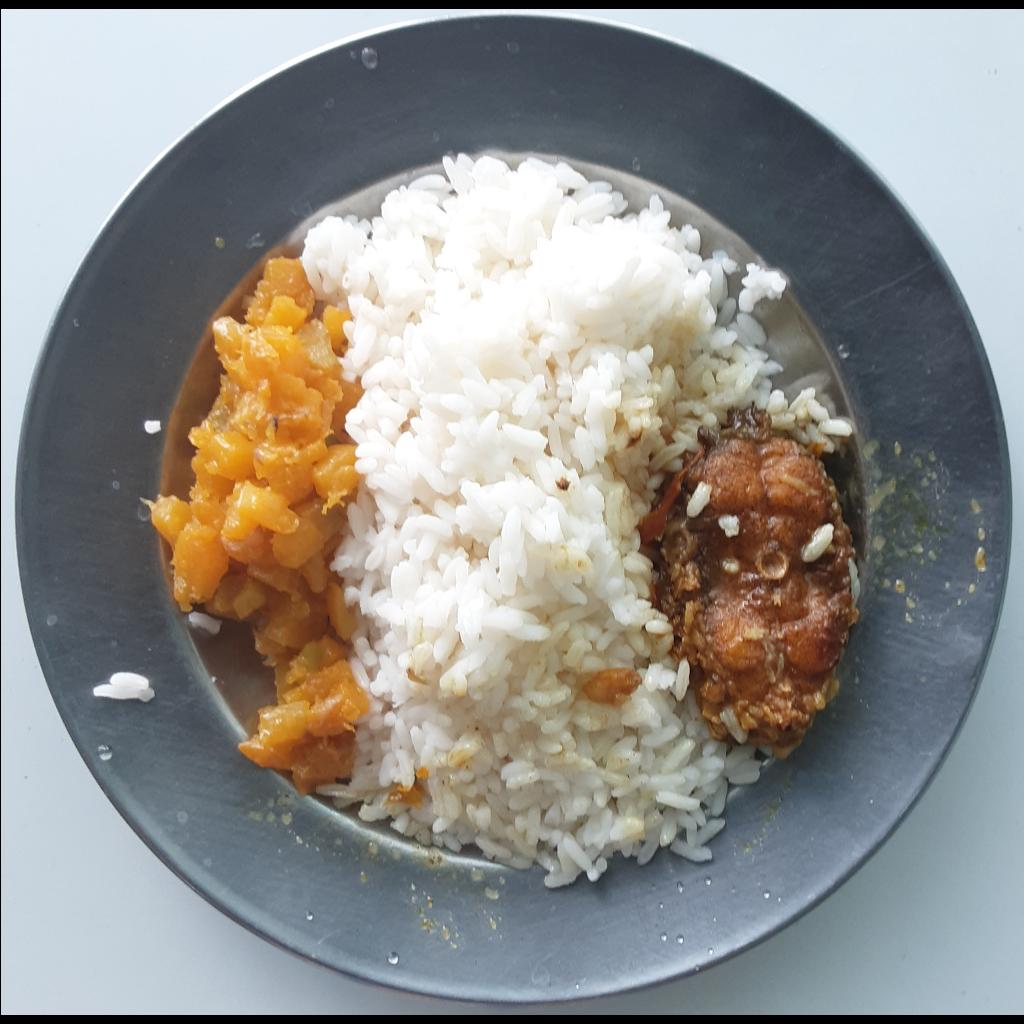fish: (641, 412, 857, 744)
kumra-vaji: (144, 255, 365, 795)
rice: (297, 149, 861, 884)
